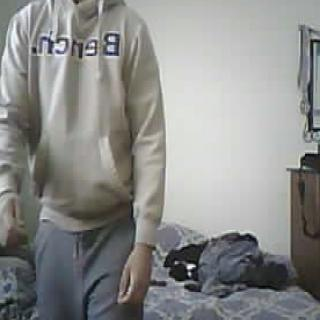Gray Sweatpants: (30, 214, 139, 320)
Yellow Hoodie: (0, 0, 164, 209)
